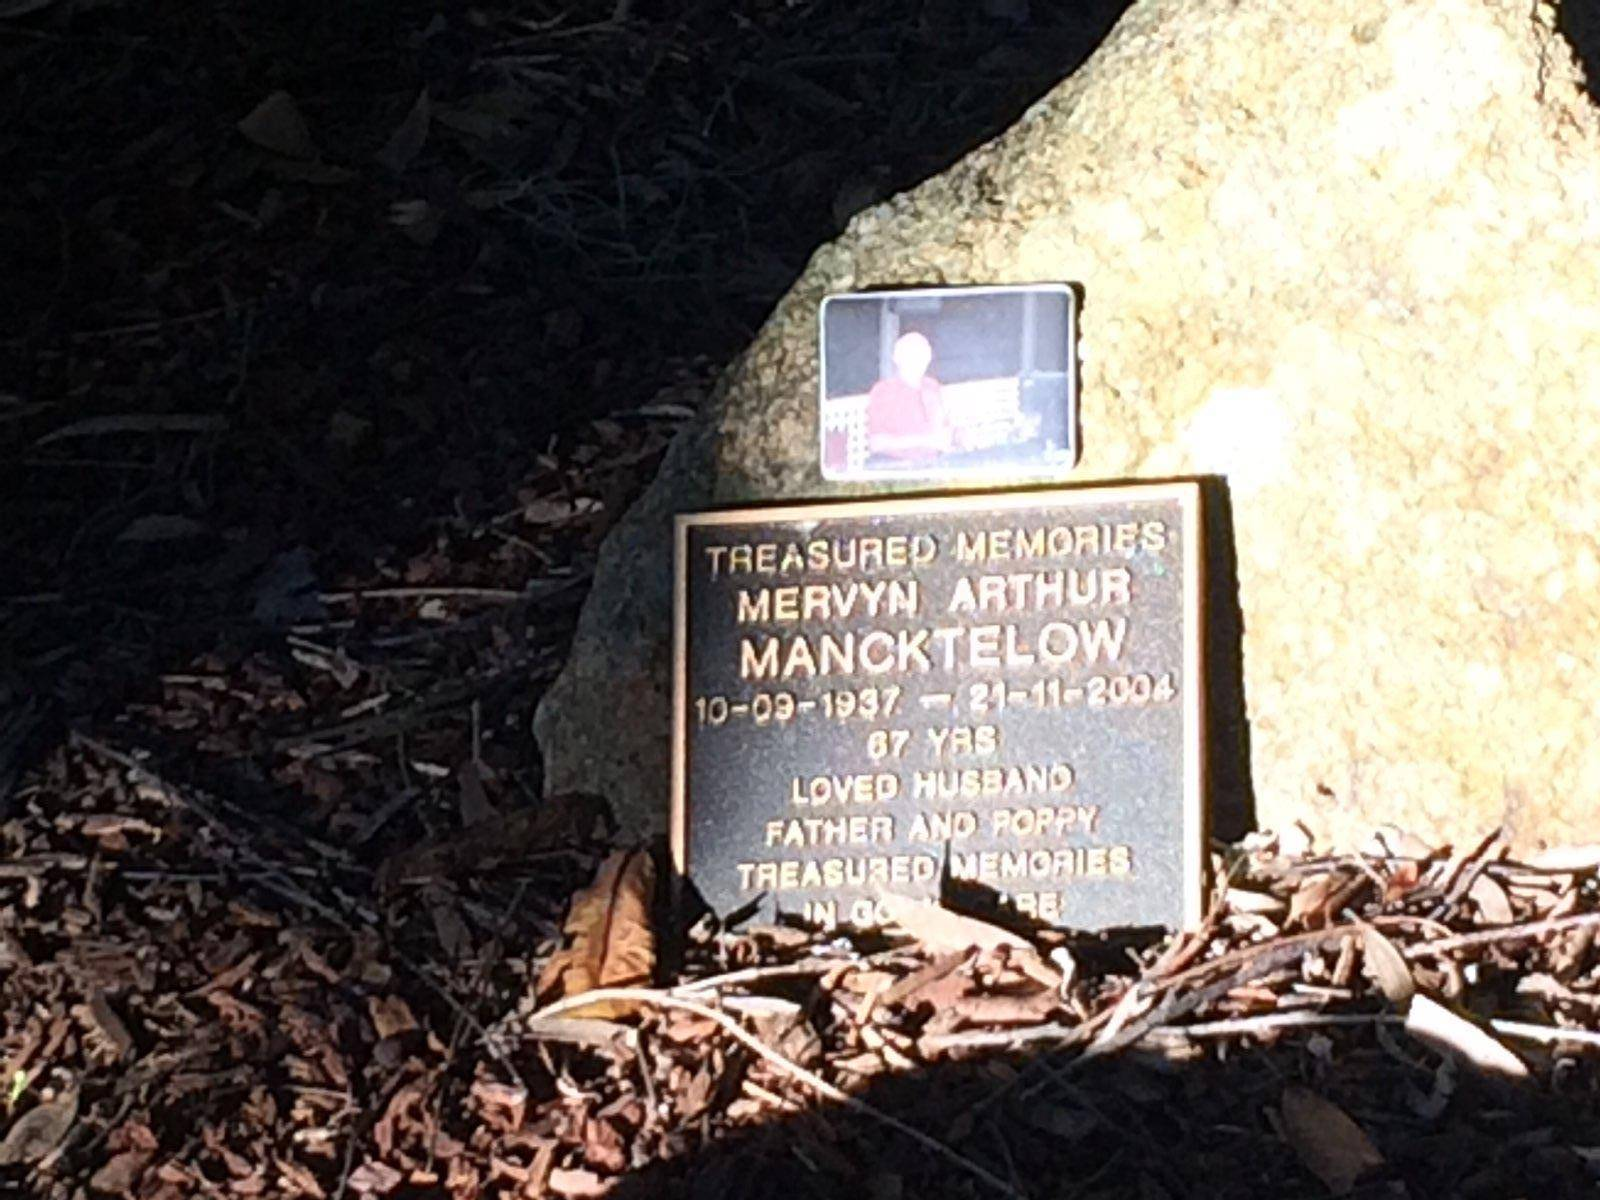plaque: (665, 474, 1204, 966)
